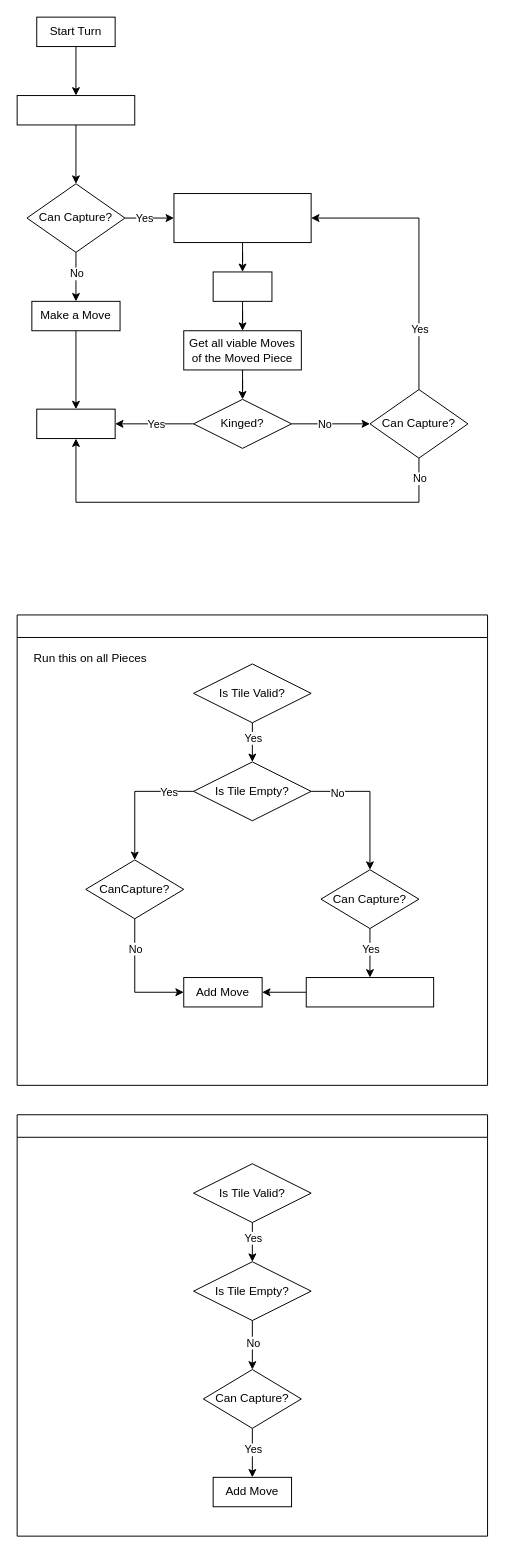
This 505x1553 diagram has some shape labels left out. Here are the shapes that lost their labels. From the top down, the box of each, then its label:
(16, 95, 135, 125): Get all viable Moves
(173, 193, 311, 243): Remove non-Capture Moves
(212, 271, 272, 301): Capture
(36, 408, 115, 439): End Turn
(16, 614, 488, 1085): Get Viable Moves (when the turn has just started)
(305, 977, 434, 1007): Enter Capturing Mode
(16, 1114, 488, 1536): Get Viable Moves (when the Piece has just moved)
